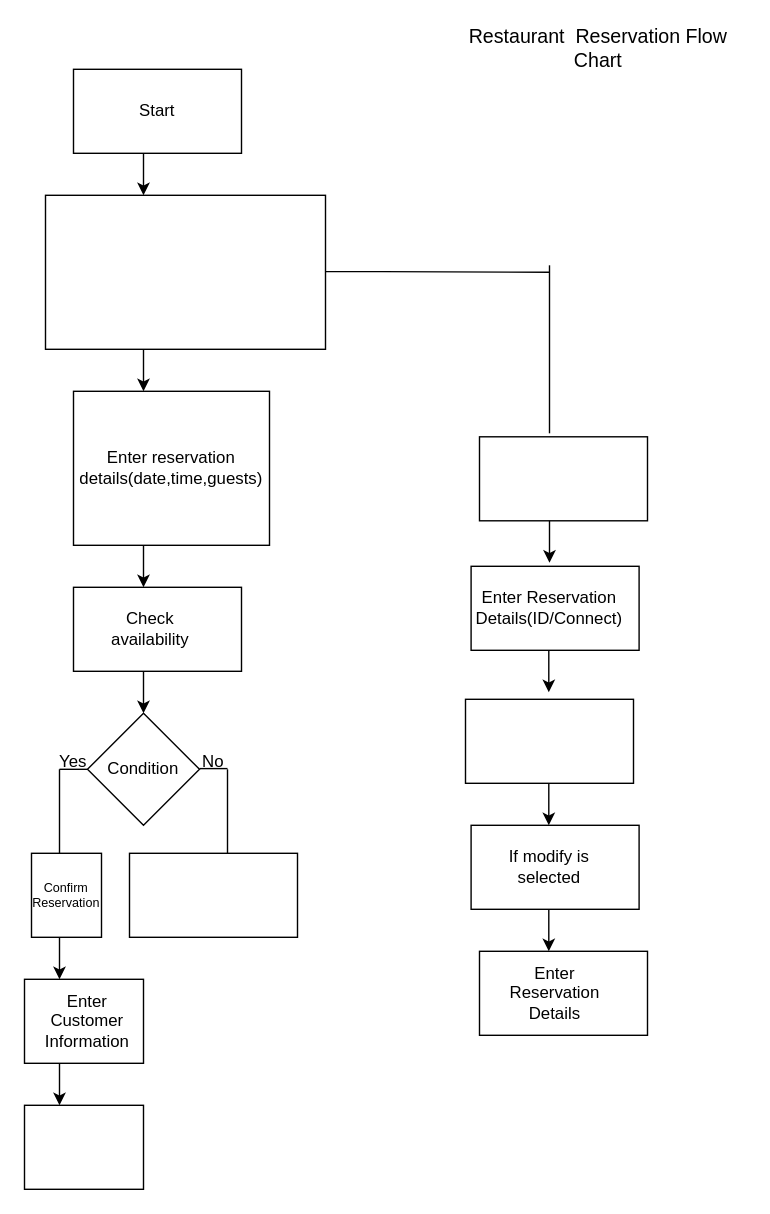
The diagram is 770 pixels wide and 1214 high, and some of its shapes have lost their labels. Here are the shapes that lost their labels. From the top down, the centre of each, then its label:
point (185, 271): Welcome screen(Make reservation,View/Cancel,Exit)
point (563, 478): If view/Cancel is selected
point (549, 740): Retrieve Reservation
point (213, 894): Show Message('No Availability)
point (83, 1146): Reservation Confirmed
